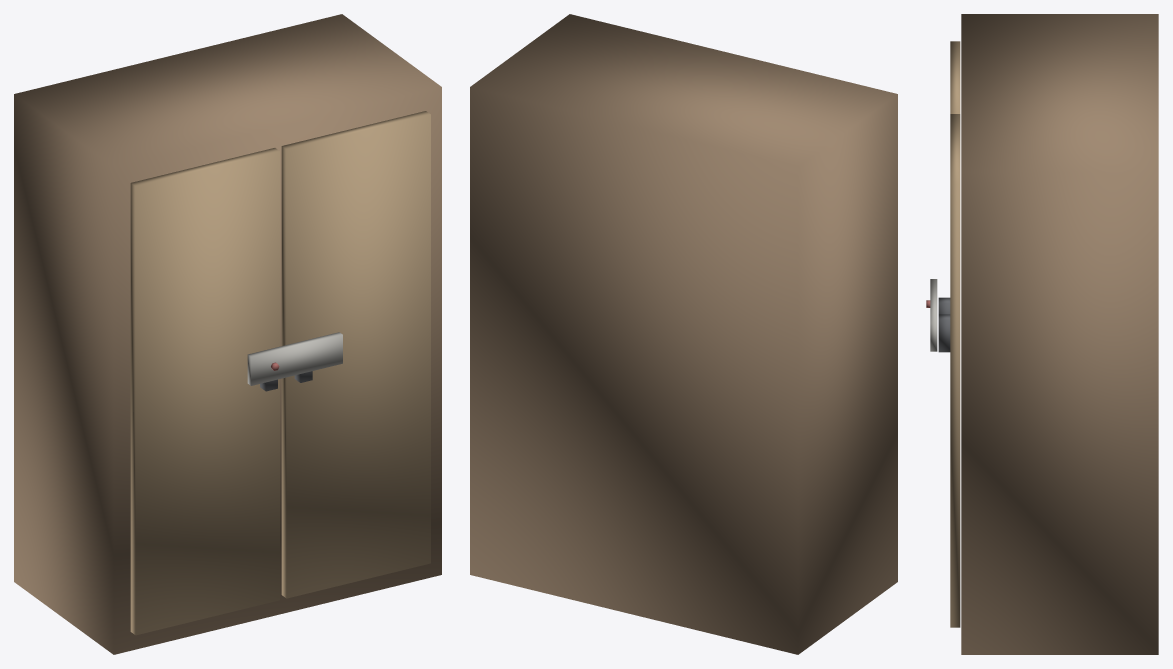
The model's file is mechanical_control_cabinet.glb.
3 renders of one model, left to right at view 1: azimuth 30°, elevation 25°; view 2: azimuth 150°, elevation 25°; view 3: azimuth 270°, elevation 25°, orthographic.
Parts seen in each view (by area): view 1: world; view 2: world; view 3: world.
Boxes of the visible parts, left/top/right/bottom form: world: left=14, top=14, right=441, bottom=654; world: left=470, top=14, right=897, bottom=654; world: left=926, top=14, right=1158, bottom=654.
Size of the model in its own units: 0.95 by 1.35 by 0.5885.
